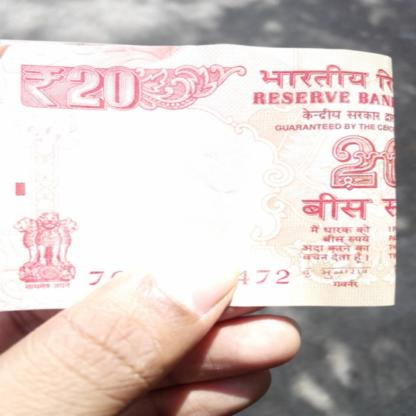Old20Front: (0, 45, 401, 307)
